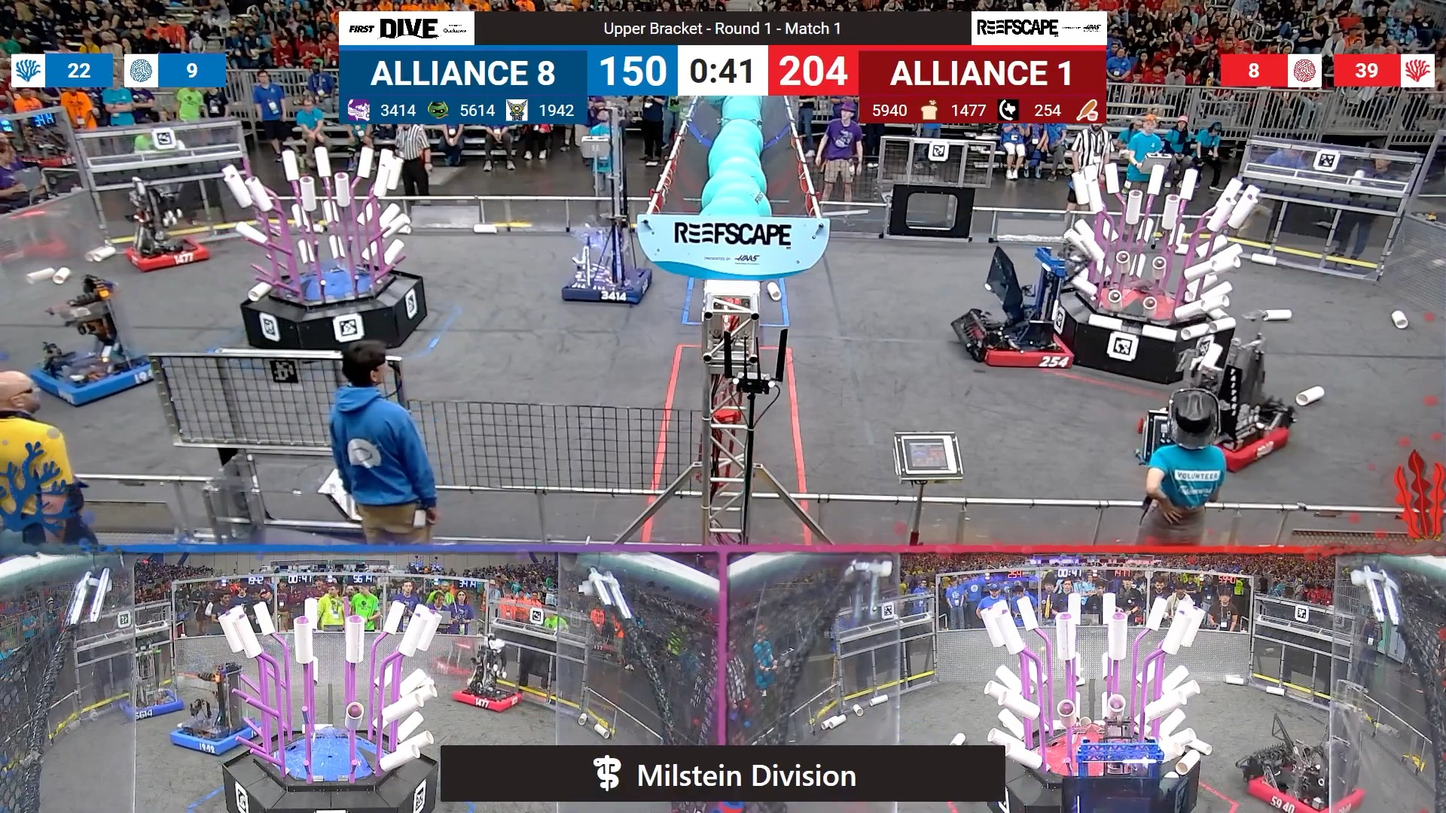bumpers: (1145, 402, 1302, 475), (19, 347, 164, 409), (956, 317, 1083, 375), (1236, 763, 1372, 813), (555, 258, 657, 307), (165, 714, 269, 760), (119, 243, 218, 277), (114, 689, 194, 724), (447, 682, 523, 715)
